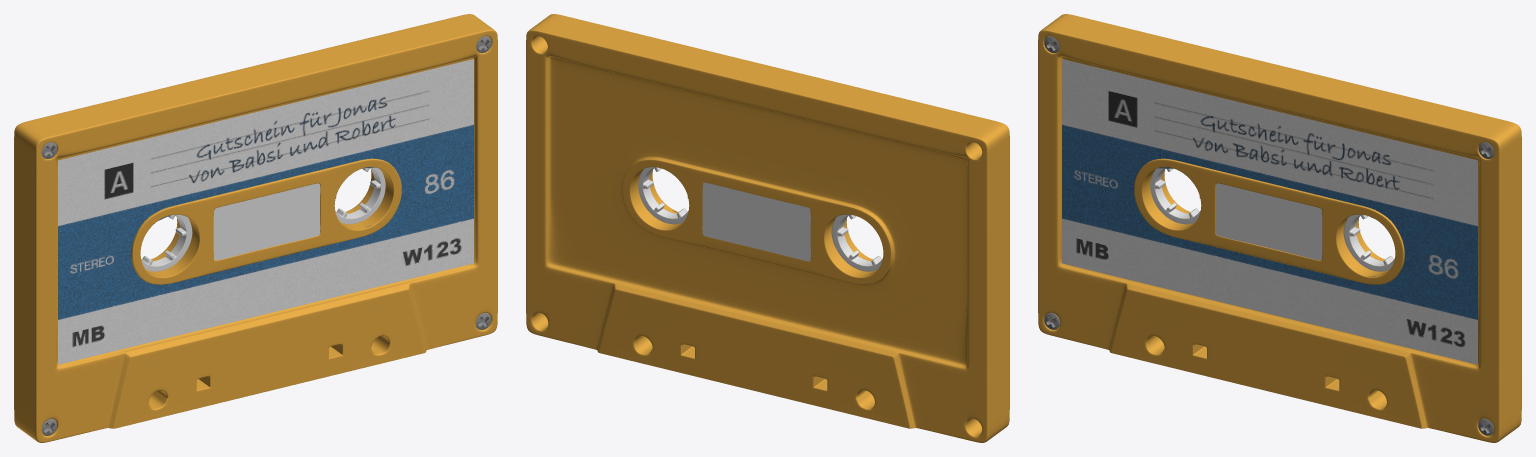
File: tapeDraco.glb
The picture shows the model from 3 angles, left to right: view 1: azimuth 30°, elevation 25°; view 2: azimuth 150°, elevation 25°; view 3: azimuth 330°, elevation 25°; orthographic projection.
Parts seen in each view (by area): view 1: main_geo_Baked, label_geo_Baked, transPlastic_geo_Baked, gears_geo_Baked, screws_geo_Baked; view 2: main_geo_Baked, transPlastic_geo_Baked, gears_geo_Baked; view 3: main_geo_Baked, label_geo_Baked, transPlastic_geo_Baked, gears_geo_Baked, screws_geo_Baked.
Part boxes in pixels (box(x1,y1,x2,y2)): main_geo_Baked: box(14, 14, 497, 442); label_geo_Baked: box(58, 59, 473, 364); transPlastic_geo_Baked: box(213, 183, 320, 260); gears_geo_Baked: box(141, 167, 385, 271); screws_geo_Baked: box(41, 36, 491, 435); main_geo_Baked: box(526, 14, 1009, 442); transPlastic_geo_Baked: box(702, 182, 810, 261); gears_geo_Baked: box(638, 167, 882, 271); main_geo_Baked: box(1038, 14, 1521, 442); label_geo_Baked: box(1062, 59, 1477, 364); transPlastic_geo_Baked: box(1215, 183, 1322, 260); gears_geo_Baked: box(1150, 168, 1394, 271); screws_geo_Baked: box(1044, 36, 1494, 435).
Size of the model in its own units: 4.73 by 2.98 by 0.4885.
Materials: 6 (1 with a texture image).
